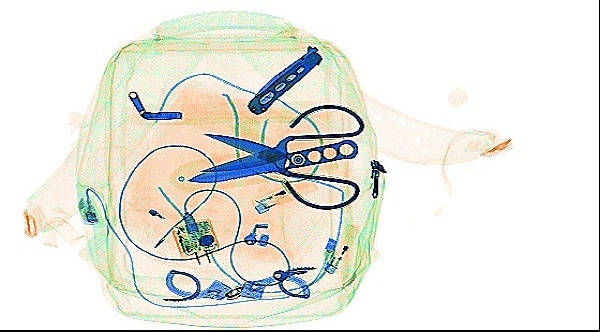handcuffs: (158, 264, 317, 304)
knife: (185, 136, 358, 183), (243, 44, 322, 114)
lighter: (250, 176, 317, 215), (320, 220, 361, 273)
scissors: (199, 103, 364, 210)
